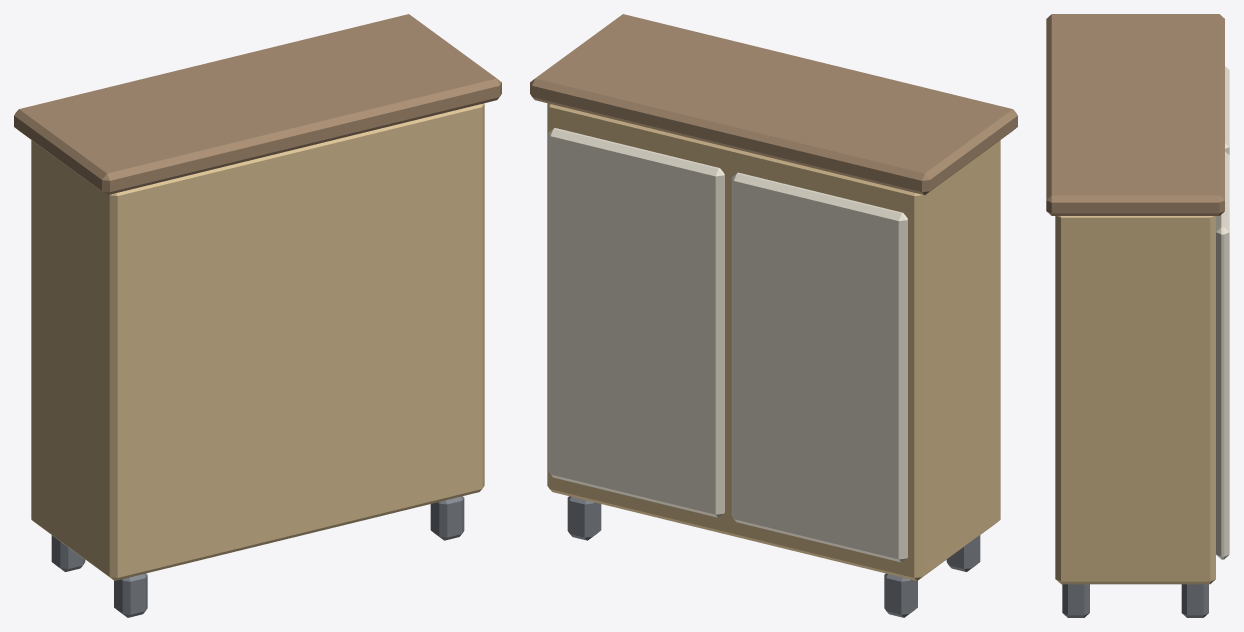
3 views of the same model, side by side, from view 1: azimuth 30°, elevation 25°; view 2: azimuth 150°, elevation 25°; view 3: azimuth 270°, elevation 25° (orthographic). The views are drawn at different scales.
Parts seen in each view (by area): view 1: 柜体.002, 顶板.001, 柜脚.001; view 2: 门板.001, 柜体.002, 顶板.001, 柜脚.001; view 3: 柜体.002, 顶板.001, 门板.001, 柜脚.001.
Part boxes in pixels (<box>): 柜体.002: <box>31,103,484,580</box>; 顶板.001: <box>14,14,501,195</box>; 柜脚.001: <box>51,496,464,617</box>; 门板.001: <box>548,128,907,562</box>; 柜体.002: <box>547,103,1000,580</box>; 顶板.001: <box>530,14,1017,195</box>; 柜脚.001: <box>567,496,980,617</box>; 柜体.002: <box>1055,216,1215,584</box>; 顶板.001: <box>1046,14,1224,215</box>; 门板.001: <box>1216,66,1229,559</box>; 柜脚.001: <box>1062,584,1208,617</box>.
Bounding box in the file's own units: 96 × 105 × 40.
